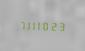one: (38, 19, 44, 31), (24, 19, 30, 30), (31, 19, 37, 30)
seven: (17, 19, 23, 30)
three: (59, 20, 65, 31)
two: (52, 20, 58, 31)
zero: (45, 20, 51, 31)
